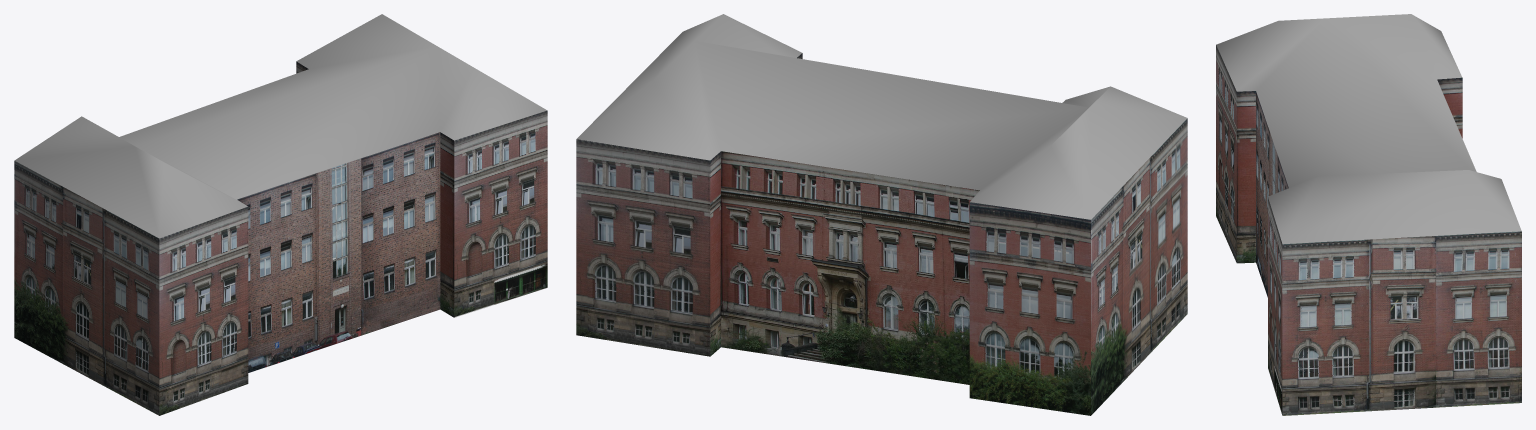
Rendered from Berndt-Bau.gltf.
3 renders of one model, left to right at view 1: azimuth 30°, elevation 25°; view 2: azimuth 150°, elevation 25°; view 3: azimuth 270°, elevation 25°, orthographic. The views are drawn at different scales.
Parts seen in each view (by area): view 1: Dach.1; view 2: Dach.1; view 3: Dach.1.
Part boxes in pixels (<box>): Dach.1: <box>14,14,547,415</box>; Dach.1: <box>576,14,1187,415</box>; Dach.1: <box>1216,14,1521,415</box>.
Bounding box in the file's own units: 47.92 × 22.36 × 29.03.
10 materials, 9 textured.
